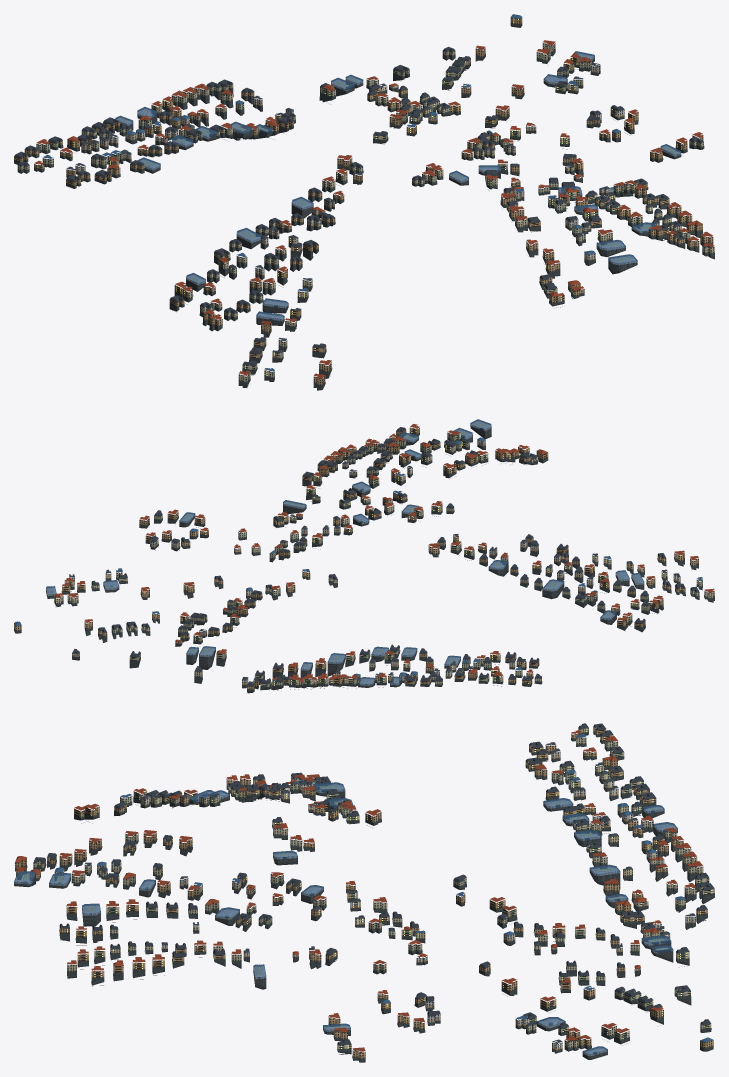
Rendered from osm_buildings_T_W02_N00_Q3.glb.
3 views of the same model, one above another, from view 1: azimuth 30°, elevation 25°; view 2: azimuth 150°, elevation 25°; view 3: azimuth 270°, elevation 25° (orthographic). The views are drawn at different scales.
Parts seen in each view (by area): view 1: OSM_T_W02_N00_Q3_foundation, OSM_T_W02_N00_Q3_wall_french_ochre, OSM_T_W02_N00_Q3_wall_cream_stucco, OSM_T_W02_N00_Q3_roof_mansard_slate, OSM_T_W02_N00_Q3_roof_terracotta, OSM_T_W02_N00_Q3_greenhouse_blend, OSM_T_W02_N00_Q3_roof_mansard_deck, OSM_T_W02_N00_Q3_roof_mint_metal, OSM_T_W02_N00_Q3_wall_warm_white, OSM_T_W02_N00_Q3_trim_cornice, OSM_T_W02_N00_Q3_wall_pastel_sand, OSM_T_W02_N00_Q3_roof_alpine_blue (+1 smaller); view 2: OSM_T_W02_N00_Q3_foundation, OSM_T_W02_N00_Q3_wall_french_ochre, OSM_T_W02_N00_Q3_wall_cream_stucco, OSM_T_W02_N00_Q3_roof_mansard_slate, OSM_T_W02_N00_Q3_roof_terracotta, OSM_T_W02_N00_Q3_greenhouse_blend, OSM_T_W02_N00_Q3_roof_mansard_deck, OSM_T_W02_N00_Q3_roof_mint_metal, OSM_T_W02_N00_Q3_wall_warm_white, OSM_T_W02_N00_Q3_trim_cornice, OSM_T_W02_N00_Q3_balcony_railing, OSM_T_W02_N00_Q3_window_emissive_warm (+2 smaller); view 3: OSM_T_W02_N00_Q3_foundation, OSM_T_W02_N00_Q3_wall_french_ochre, OSM_T_W02_N00_Q3_wall_cream_stucco, OSM_T_W02_N00_Q3_roof_mansard_slate, OSM_T_W02_N00_Q3_roof_terracotta, OSM_T_W02_N00_Q3_greenhouse_blend, OSM_T_W02_N00_Q3_roof_mansard_deck, OSM_T_W02_N00_Q3_roof_mint_metal, OSM_T_W02_N00_Q3_wall_warm_white, OSM_T_W02_N00_Q3_trim_cornice, OSM_T_W02_N00_Q3_balcony_railing, OSM_T_W02_N00_Q3_wall_pastel_sand (+2 smaller).
Part boxes in pixels (bbox=[...]): OSM_T_W02_N00_Q3_foundation: bbox=[14, 23, 714, 390]; OSM_T_W02_N00_Q3_wall_french_ochre: bbox=[14, 17, 713, 385]; OSM_T_W02_N00_Q3_wall_cream_stucco: bbox=[17, 43, 714, 382]; OSM_T_W02_N00_Q3_roof_mansard_slate: bbox=[14, 48, 703, 366]; OSM_T_W02_N00_Q3_roof_terracotta: bbox=[34, 40, 714, 378]; OSM_T_W02_N00_Q3_greenhouse_blend: bbox=[115, 51, 681, 321]; OSM_T_W02_N00_Q3_roof_mansard_deck: bbox=[16, 46, 702, 363]; OSM_T_W02_N00_Q3_roof_mint_metal: bbox=[14, 49, 714, 388]; OSM_T_W02_N00_Q3_wall_warm_white: bbox=[108, 65, 652, 358]; OSM_T_W02_N00_Q3_trim_cornice: bbox=[21, 17, 714, 383]; OSM_T_W02_N00_Q3_wall_pastel_sand: bbox=[75, 84, 595, 275]; OSM_T_W02_N00_Q3_roof_alpine_blue: bbox=[43, 14, 620, 371]; OSM_T_W02_N00_Q3_foundation: bbox=[14, 425, 714, 693]; OSM_T_W02_N00_Q3_wall_french_ochre: bbox=[14, 426, 698, 689]; OSM_T_W02_N00_Q3_wall_cream_stucco: bbox=[54, 432, 714, 687]; OSM_T_W02_N00_Q3_roof_mansard_slate: bbox=[69, 427, 699, 686]; OSM_T_W02_N00_Q3_roof_terracotta: bbox=[54, 424, 714, 681]; OSM_T_W02_N00_Q3_greenhouse_blend: bbox=[46, 419, 644, 685]; OSM_T_W02_N00_Q3_roof_mansard_deck: bbox=[50, 426, 698, 685]; OSM_T_W02_N00_Q3_roof_mint_metal: bbox=[54, 433, 713, 689]; OSM_T_W02_N00_Q3_wall_warm_white: bbox=[69, 444, 680, 685]; OSM_T_W02_N00_Q3_trim_cornice: bbox=[15, 429, 714, 691]; OSM_T_W02_N00_Q3_balcony_railing: bbox=[54, 429, 711, 687]; OSM_T_W02_N00_Q3_window_emissive_warm: bbox=[49, 423, 691, 685]; OSM_T_W02_N00_Q3_foundation: bbox=[14, 731, 714, 1062]; OSM_T_W02_N00_Q3_wall_french_ochre: bbox=[15, 726, 713, 1059]; OSM_T_W02_N00_Q3_wall_cream_stucco: bbox=[33, 728, 714, 1049]; OSM_T_W02_N00_Q3_roof_mansard_slate: bbox=[33, 724, 714, 1045]; OSM_T_W02_N00_Q3_roof_terracotta: bbox=[15, 730, 707, 1051]; OSM_T_W02_N00_Q3_greenhouse_blend: bbox=[14, 779, 677, 1056]; OSM_T_W02_N00_Q3_roof_mansard_deck: bbox=[15, 723, 712, 1055]; OSM_T_W02_N00_Q3_roof_mint_metal: bbox=[15, 732, 714, 1060]; OSM_T_W02_N00_Q3_wall_warm_white: bbox=[111, 785, 695, 1050]; OSM_T_W02_N00_Q3_trim_cornice: bbox=[16, 727, 714, 1056]; OSM_T_W02_N00_Q3_balcony_railing: bbox=[14, 735, 712, 1054]; OSM_T_W02_N00_Q3_wall_pastel_sand: bbox=[54, 752, 661, 1026].
Bounding box in the file's own units: 986 × 175 × 987.
Materials: 16 (16 with a texture image).
